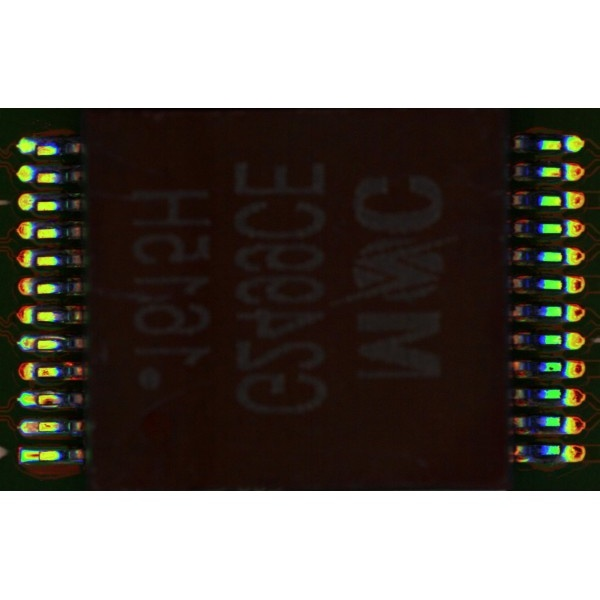Bad_podu: (29, 395, 45, 403), (30, 452, 48, 459), (33, 423, 47, 430)
Bad_qiaojiao: (36, 335, 66, 340)
